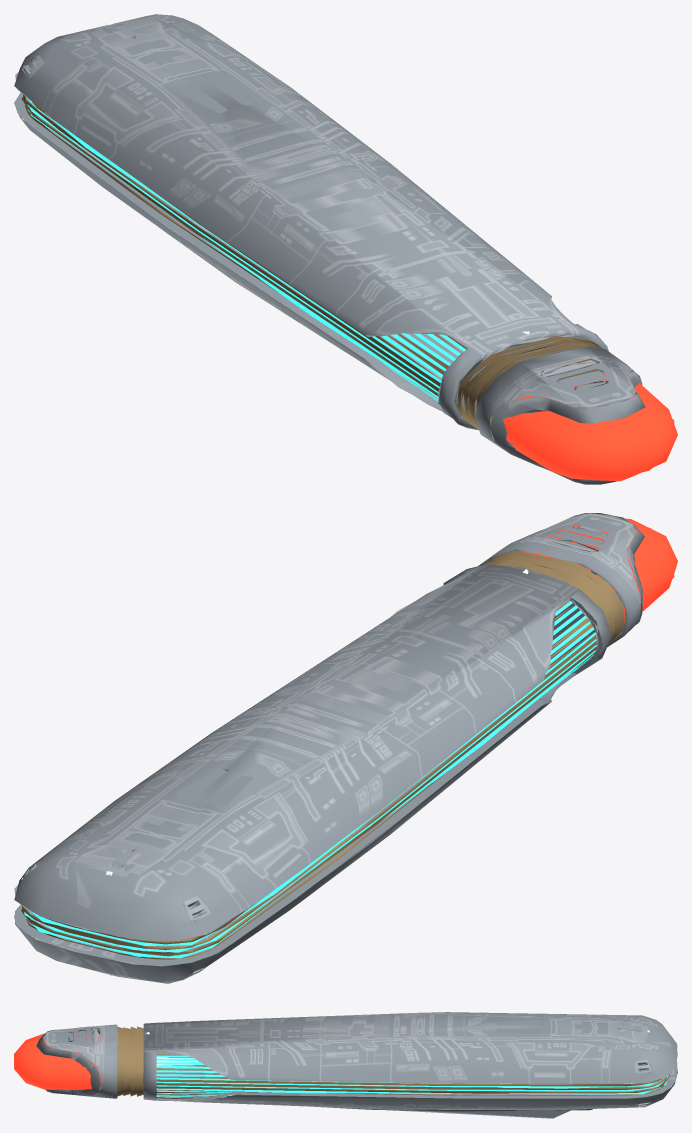
Rendered from GalaxyNacelle_Starboard_LOD1.fbx.
3 views of the same model, one above another, from view 1: azimuth 30°, elevation 25°; view 2: azimuth 150°, elevation 25°; view 3: azimuth 270°, elevation 25° (orthographic). The views are drawn at different scales.
Visible parts, largest first — view 1: GalaxyNacelle_Starboard_LOD1; view 2: GalaxyNacelle_Starboard_LOD1; view 3: GalaxyNacelle_Starboard_LOD1.
Part boxes in pixels (x1,y1,x2,y2): GalaxyNacelle_Starboard_LOD1: [14, 14, 677, 484]; GalaxyNacelle_Starboard_LOD1: [14, 513, 677, 983]; GalaxyNacelle_Starboard_LOD1: [14, 1012, 677, 1118].
Bounding box in the file's own units: 5309 × 3731 × 25009.
7 materials, 3 textured.
